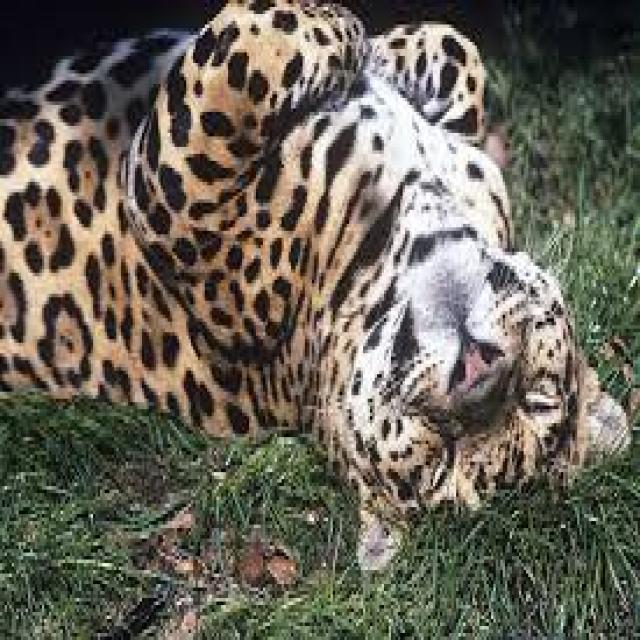Jaguar: (0, 0, 633, 577)
